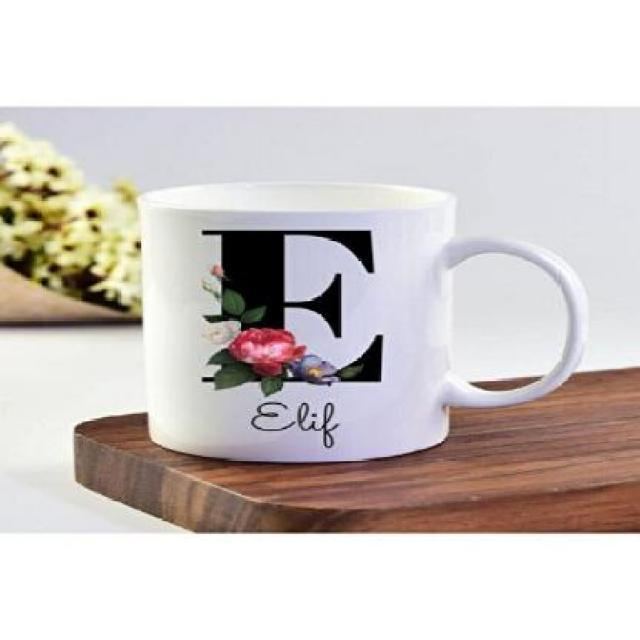taza: (118, 170, 598, 470)
